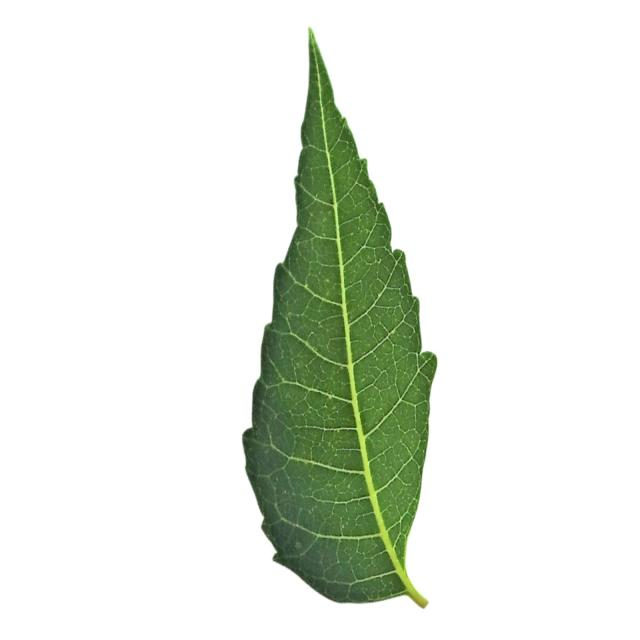Medicinal-Neem: (243, 18, 438, 609)
